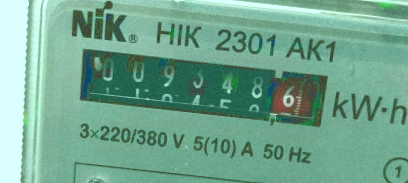0: (98, 56, 116, 84), (129, 56, 146, 84)
3: (190, 64, 206, 90)
4: (216, 65, 237, 97)
6: (278, 80, 298, 110)
8: (248, 71, 266, 101)
9: (159, 63, 176, 91)
screen: (57, 32, 342, 140)
